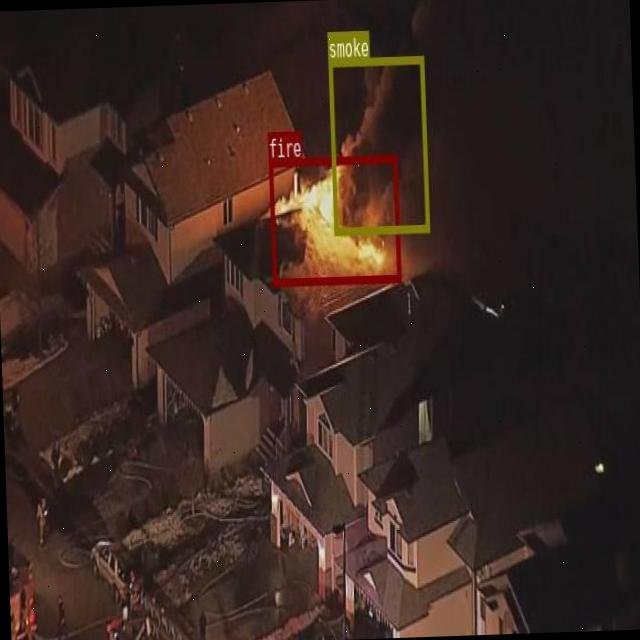fire: (268, 154, 401, 284)
smoke: (328, 55, 428, 234)
